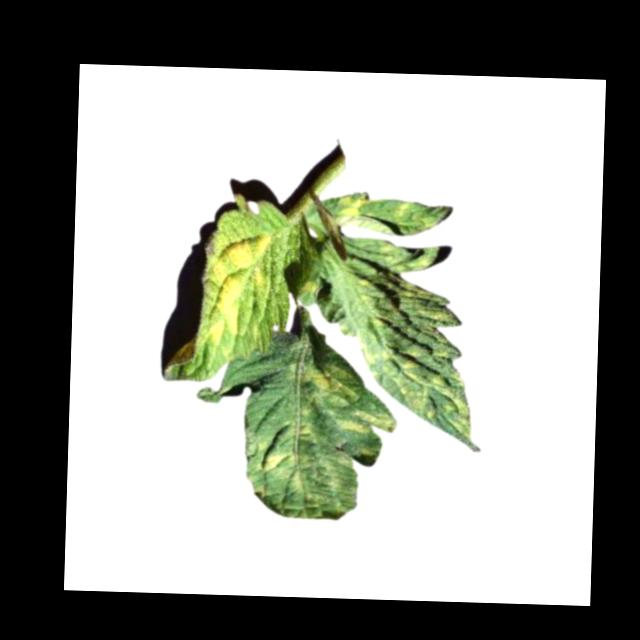Leaf_Mold: (341, 235, 478, 441), (204, 234, 273, 351), (301, 366, 396, 436), (254, 444, 302, 496), (335, 197, 363, 223)
